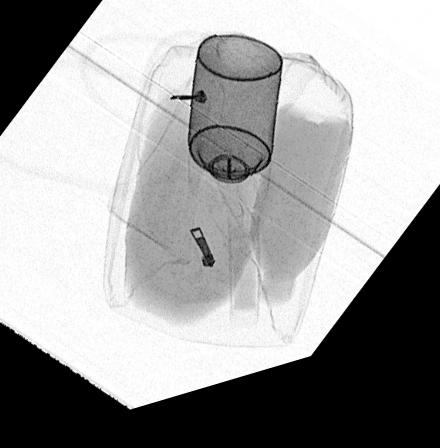Sprayer: (186, 45, 284, 213)
